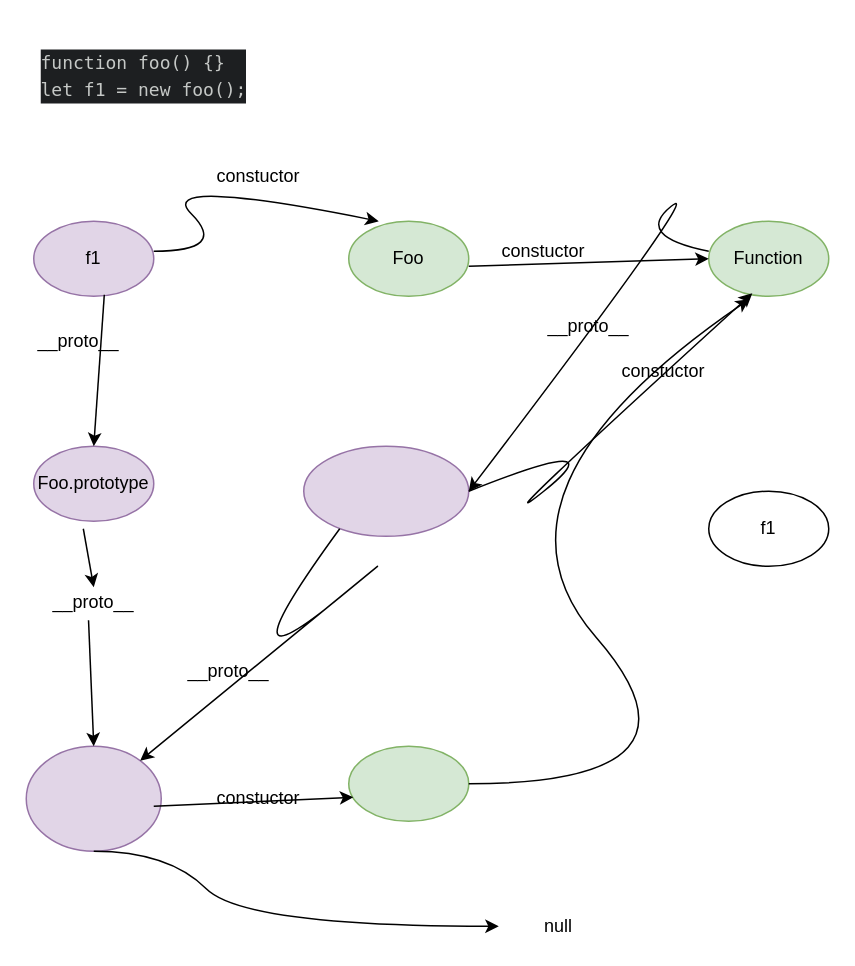
This 855x966 diagram has some shape labels left out. Here are the shapes that lost their labels. From the top down, the centre of each, then its label:
At [385,490]: "Function.prototype".
At [93,798]: "Object.prototype".
At [408,783]: "Object".
